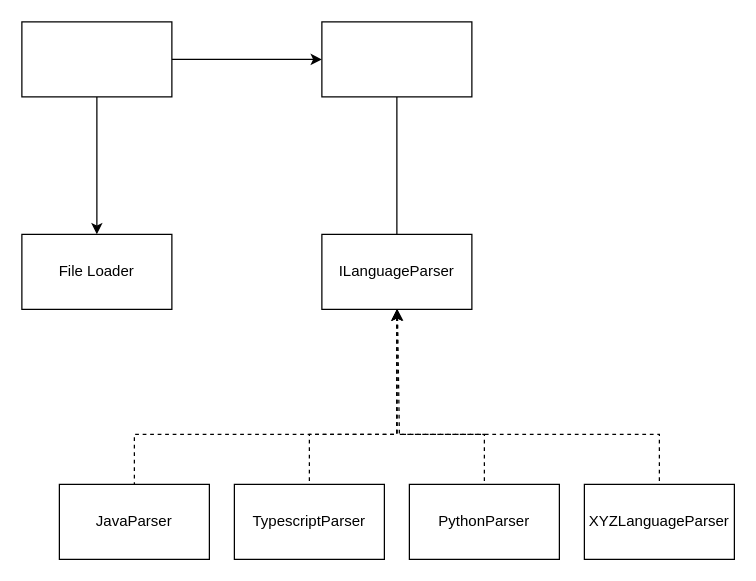
Some shapes in this 756 by 581 pixel diagram are drawn without their labels. The box of each missing label's shape, as (x1, y1, x2, y2) in pixels:
Application: (21, 21, 172, 97)
InfoExtractor: (321, 21, 472, 97)
